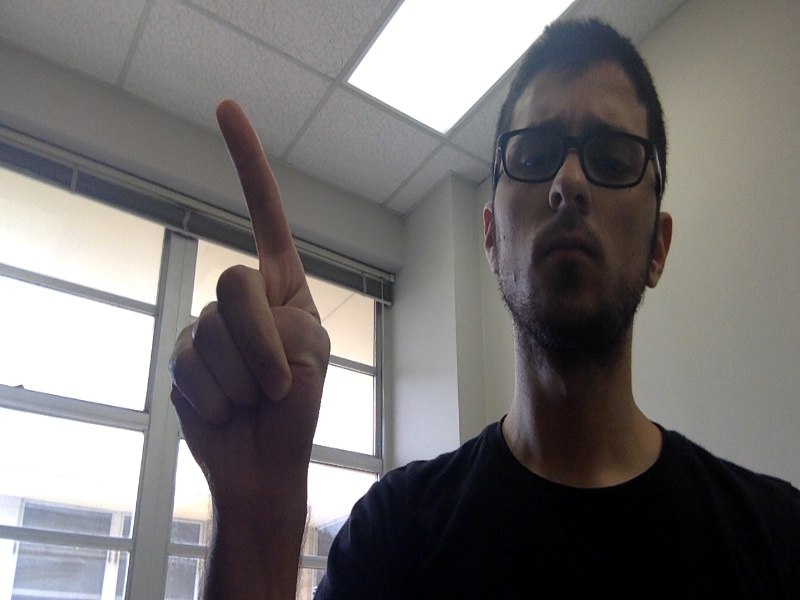1-hand: (171, 100, 327, 490)
